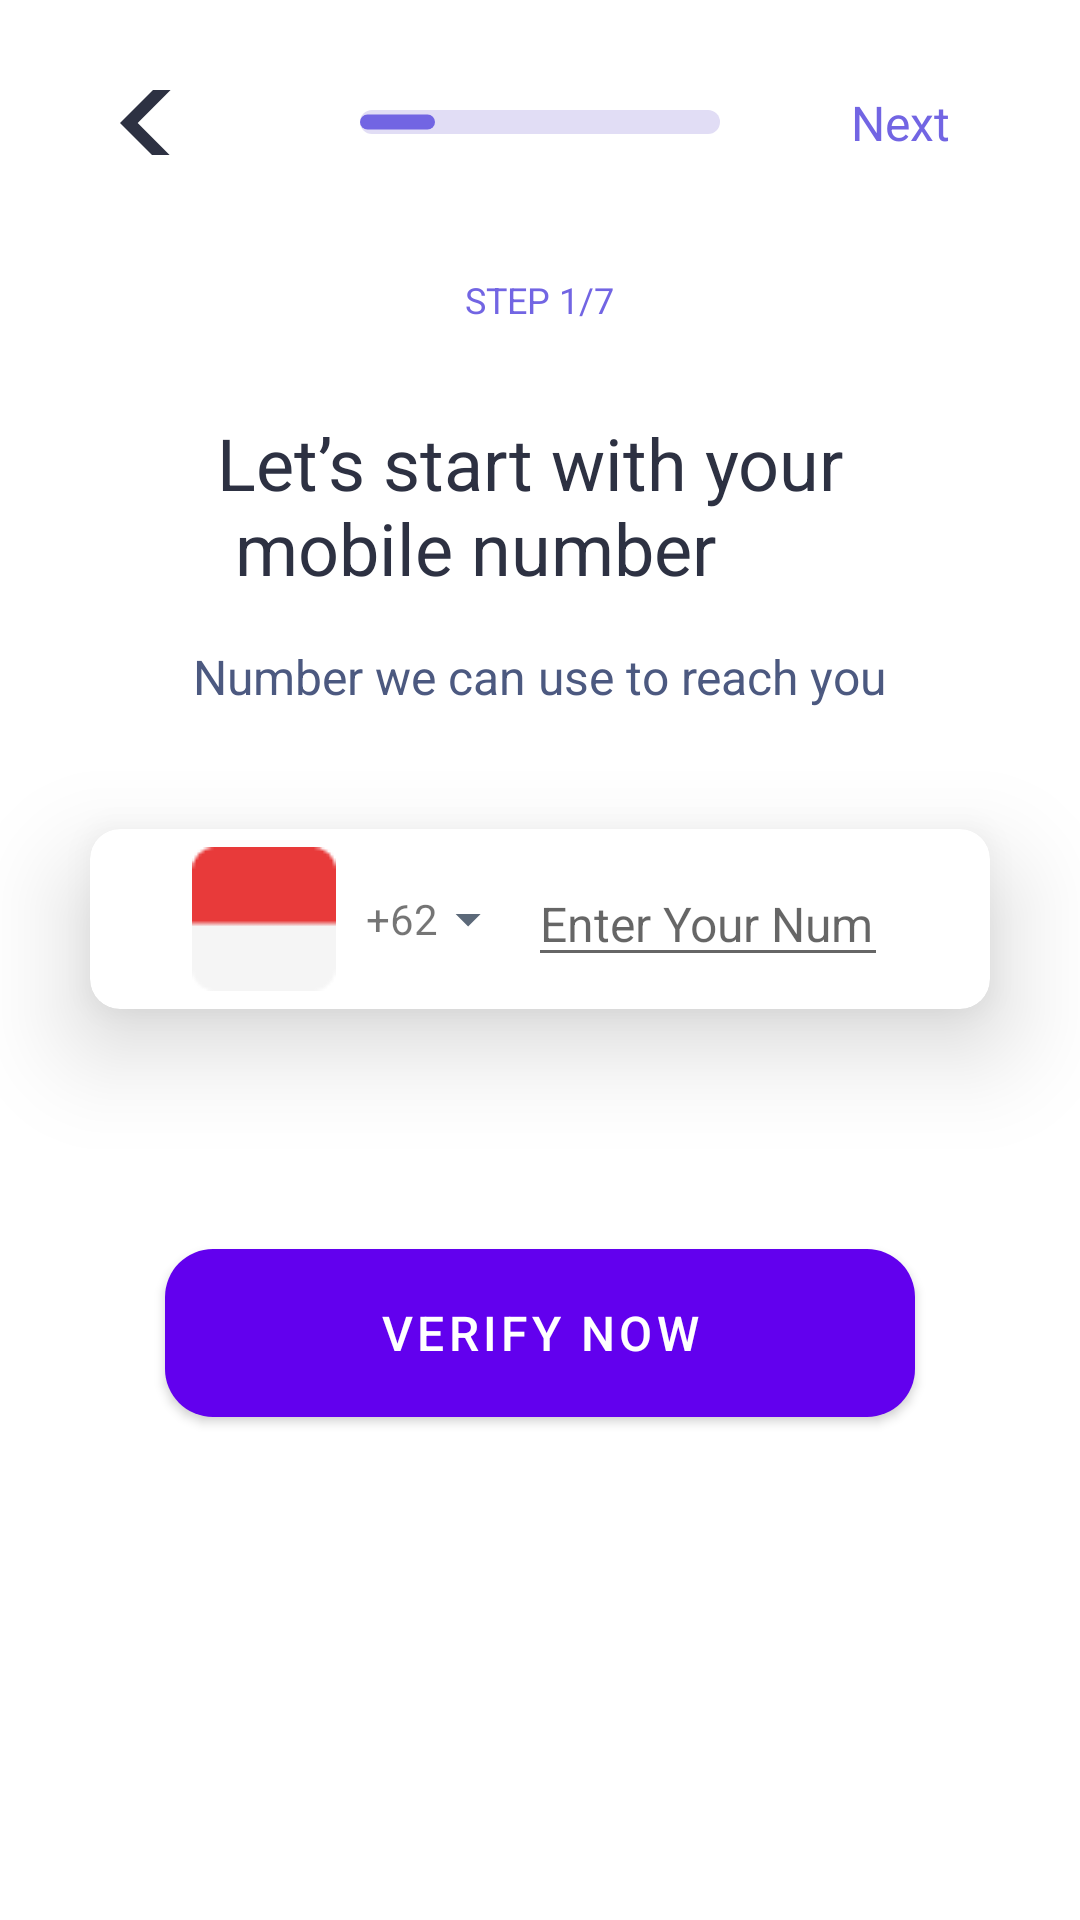

Where to tap for icons on this 1080x1920 app screen, as point (x, y):
back: point (145, 122)
down: point (468, 920)
